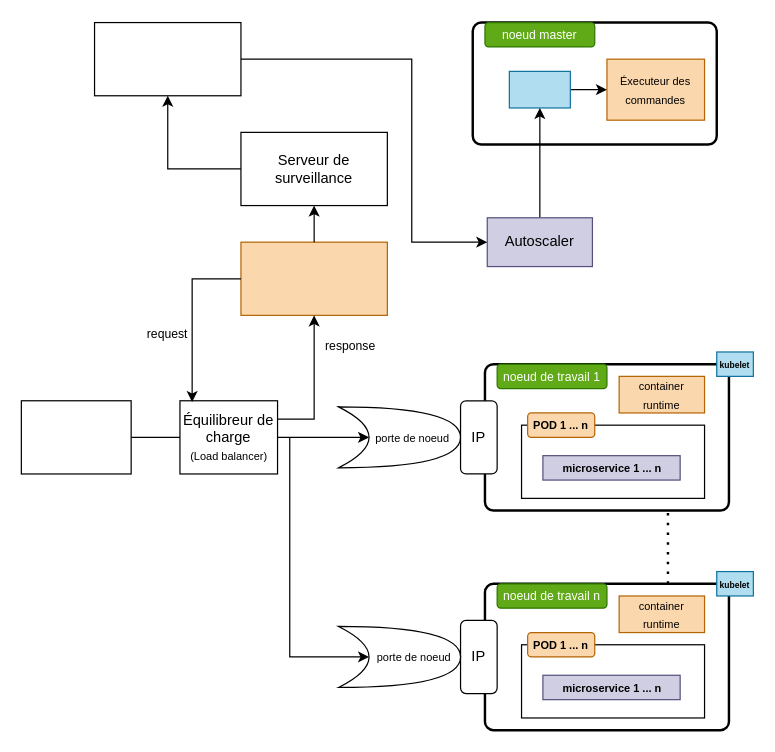
Image size: 775x752. Some labels were removed from this diagram. The shapes that lost their labels are listed below. From the top down, each one's centre as x and y in pixels, then its label:
At point 167,58: "Historique des données temporelles (temps, requête)".
At point 539,89: "API Server".
At point 313,278: "Collecteur de métriques d'application".
At point 75,437: "Générateur de charges".
